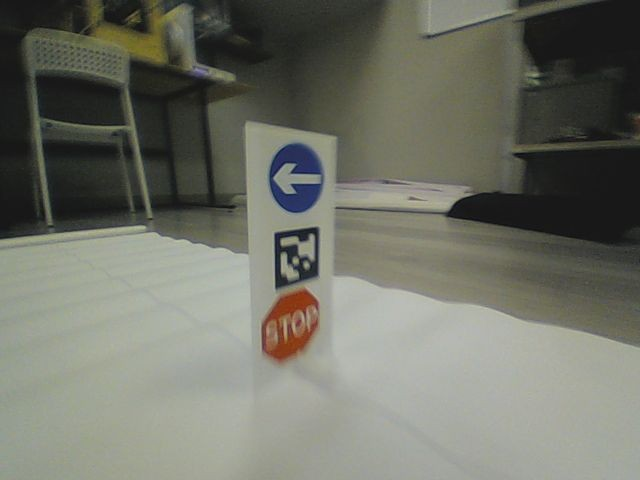Stop: (260, 288, 323, 363)
